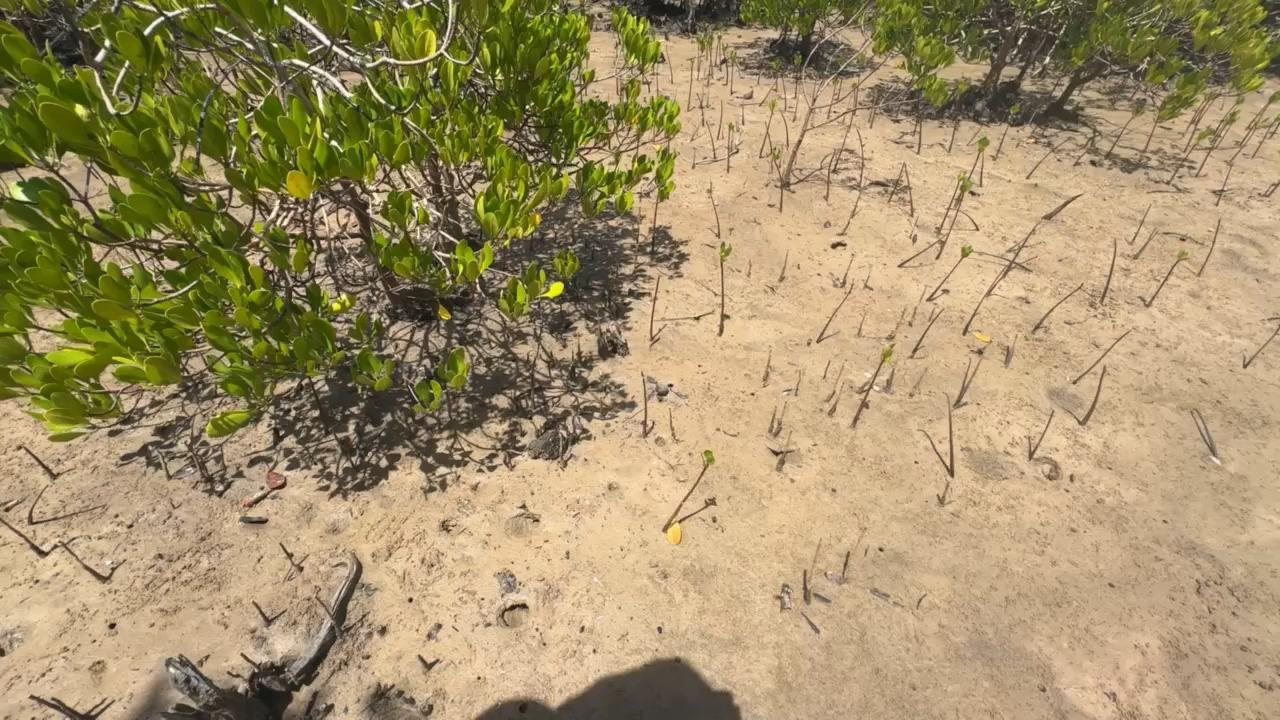Tree: (661, 449, 715, 533), (851, 343, 895, 427), (1072, 329, 1133, 383), (962, 266, 1009, 336), (1194, 110, 1242, 177), (1167, 126, 1217, 185), (937, 180, 973, 260), (1032, 284, 1086, 334), (1104, 97, 1148, 158), (926, 246, 972, 302), (817, 280, 857, 343), (1147, 250, 1190, 306), (1001, 221, 1041, 278), (59, 541, 106, 584), (840, 168, 871, 233), (1025, 138, 1071, 180), (1243, 318, 1280, 368), (910, 308, 947, 356), (0, 520, 45, 558), (1197, 216, 1224, 277), (1082, 365, 1108, 427), (897, 234, 944, 268), (313, 585, 342, 638), (939, 172, 965, 231), (29, 694, 87, 720), (952, 355, 980, 408), (995, 104, 1021, 160), (718, 242, 733, 333), (1228, 122, 1260, 164), (1213, 95, 1245, 137), (1031, 407, 1055, 461), (1253, 111, 1280, 159), (1247, 90, 1280, 129), (941, 390, 955, 478), (1143, 101, 1166, 151), (1101, 238, 1118, 303), (24, 447, 56, 481), (759, 98, 777, 157), (825, 358, 847, 403), (968, 136, 991, 179), (182, 446, 211, 479), (1129, 204, 1152, 243), (1132, 228, 1160, 260), (776, 428, 795, 471), (277, 542, 303, 572), (771, 147, 783, 210), (708, 181, 721, 237), (888, 162, 906, 202), (638, 370, 648, 435), (649, 276, 659, 339), (835, 130, 848, 171), (829, 383, 845, 416), (855, 128, 864, 185), (904, 164, 914, 215), (825, 149, 835, 200), (1217, 166, 1230, 205), (251, 602, 271, 627), (157, 450, 173, 481), (777, 109, 790, 147), (871, 85, 882, 128), (827, 78, 838, 118), (763, 346, 774, 385), (696, 34, 705, 80), (240, 653, 259, 674), (841, 255, 854, 285), (779, 68, 788, 111), (706, 121, 716, 159), (794, 50, 802, 97), (949, 120, 960, 152), (802, 566, 811, 603), (687, 59, 693, 111), (727, 121, 733, 170), (707, 31, 714, 73), (853, 73, 860, 115), (779, 250, 789, 279), (773, 59, 782, 91), (696, 95, 705, 126), (730, 50, 736, 95), (770, 402, 778, 434), (722, 43, 728, 84), (1005, 342, 1014, 367), (793, 85, 799, 118), (717, 33, 722, 71), (718, 101, 723, 138), (918, 111, 922, 153), (794, 368, 800, 395), (980, 146, 984, 186), (858, 315, 864, 339), (824, 360, 830, 378), (862, 275, 870, 286)
